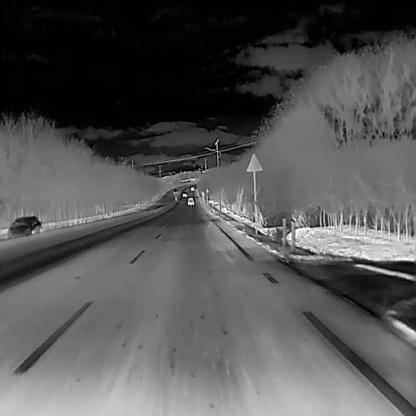car: (5, 216, 42, 236), (187, 196, 195, 205)
